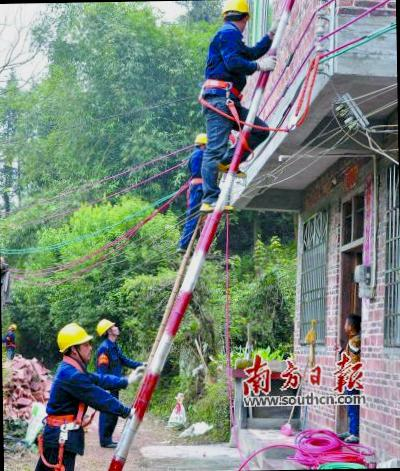no_helmet: (340, 308, 362, 336)
